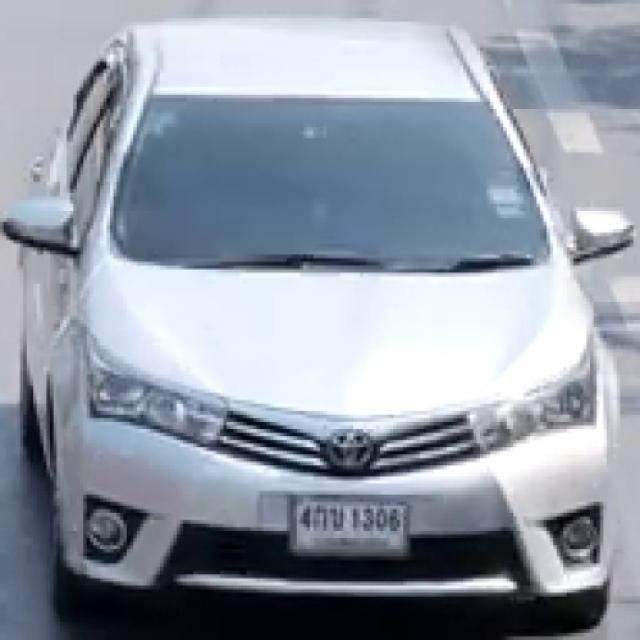plate: (290, 495, 406, 554)
